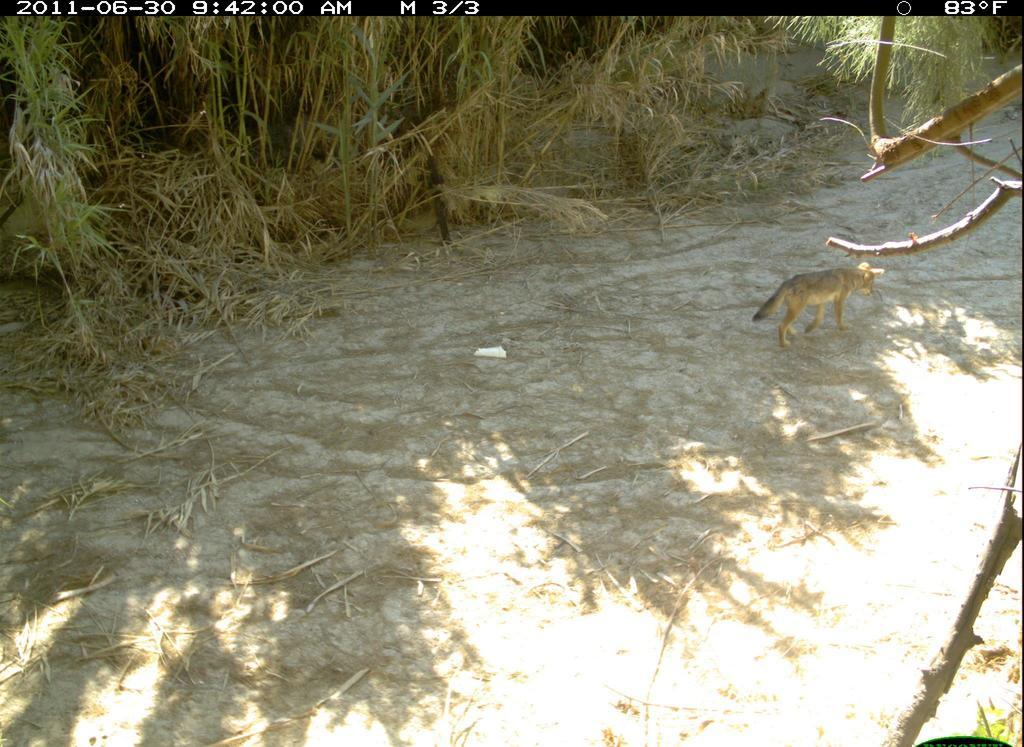coyote: (751, 262, 895, 351)
